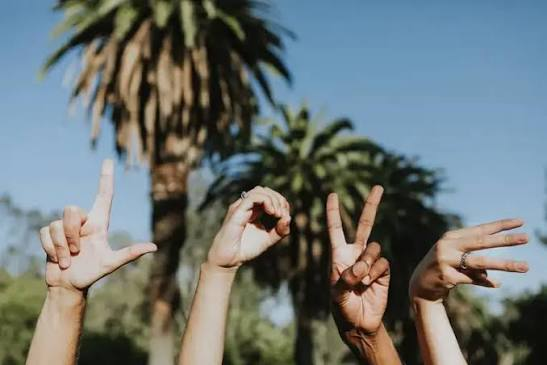peace_sign: (325, 178, 396, 327)
